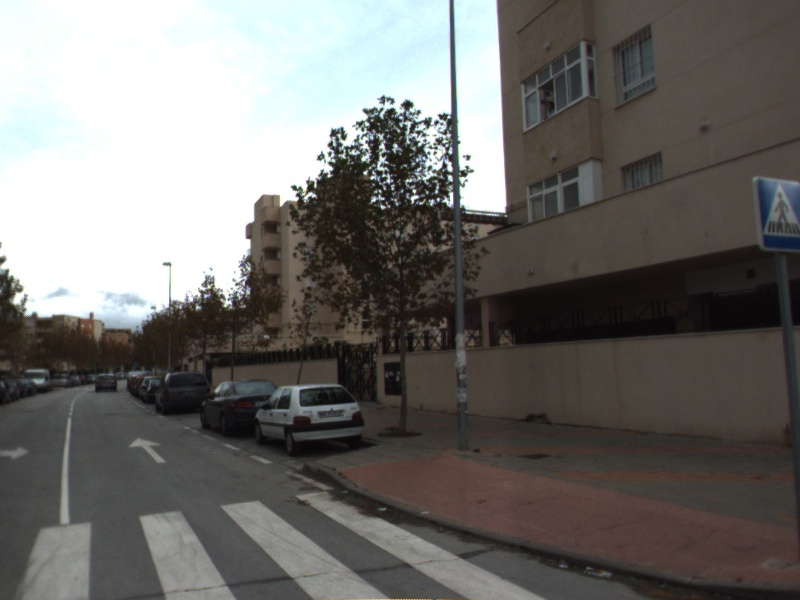STRAIGHT: (127, 436, 168, 465)
